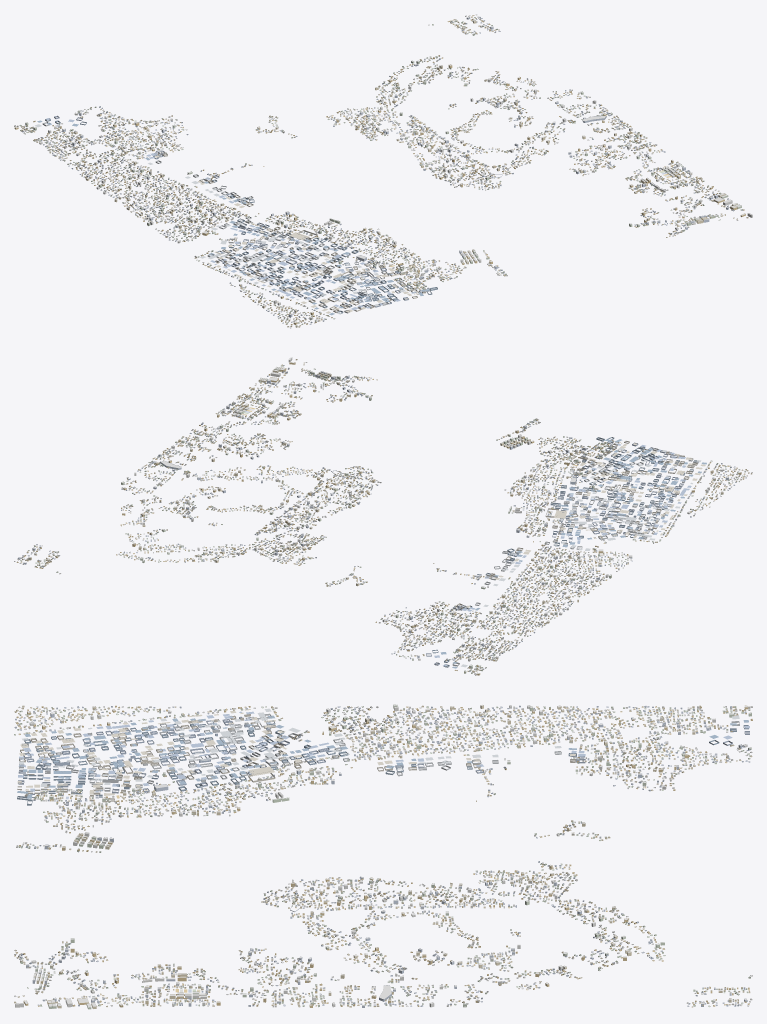
3 renders of one model, top to bottom at view 1: azimuth 30°, elevation 25°; view 2: azimuth 150°, elevation 25°; view 3: azimuth 270°, elevation 25°, orthographic. The views are drawn at different scales.
Visible parts, largest first — view 1: house, roof_zinc, factory, apartment, roof_flat; view 2: house, roof_zinc, factory, apartment, roof_flat; view 3: house, roof_zinc, factory, apartment, roof_flat.
Part boxes in pixels (x1,y1,x2,y2): house: (14, 14, 748, 328); roof_zinc: (20, 16, 743, 326); factory: (42, 115, 680, 314); apartment: (14, 16, 752, 324); roof_flat: (15, 17, 752, 322); house: (14, 359, 752, 675); roof_zinc: (17, 362, 752, 674); factory: (233, 405, 698, 667); apartment: (23, 357, 741, 675); roof_flat: (23, 357, 741, 673); house: (14, 705, 752, 1007); roof_zinc: (14, 706, 752, 1007); factory: (17, 713, 749, 999); apartment: (15, 704, 751, 1009); roof_flat: (15, 704, 751, 1007).
Size of the model in its own units: 1.4e+08 by 740393 by 1.45e+08.
